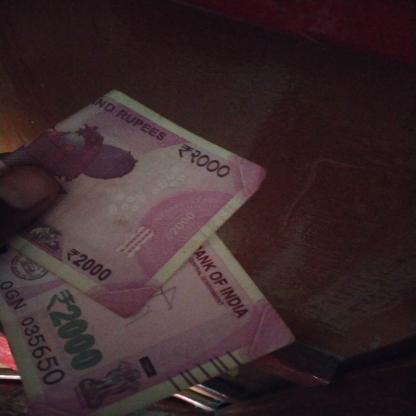New2000Back: (2, 96, 237, 284)
